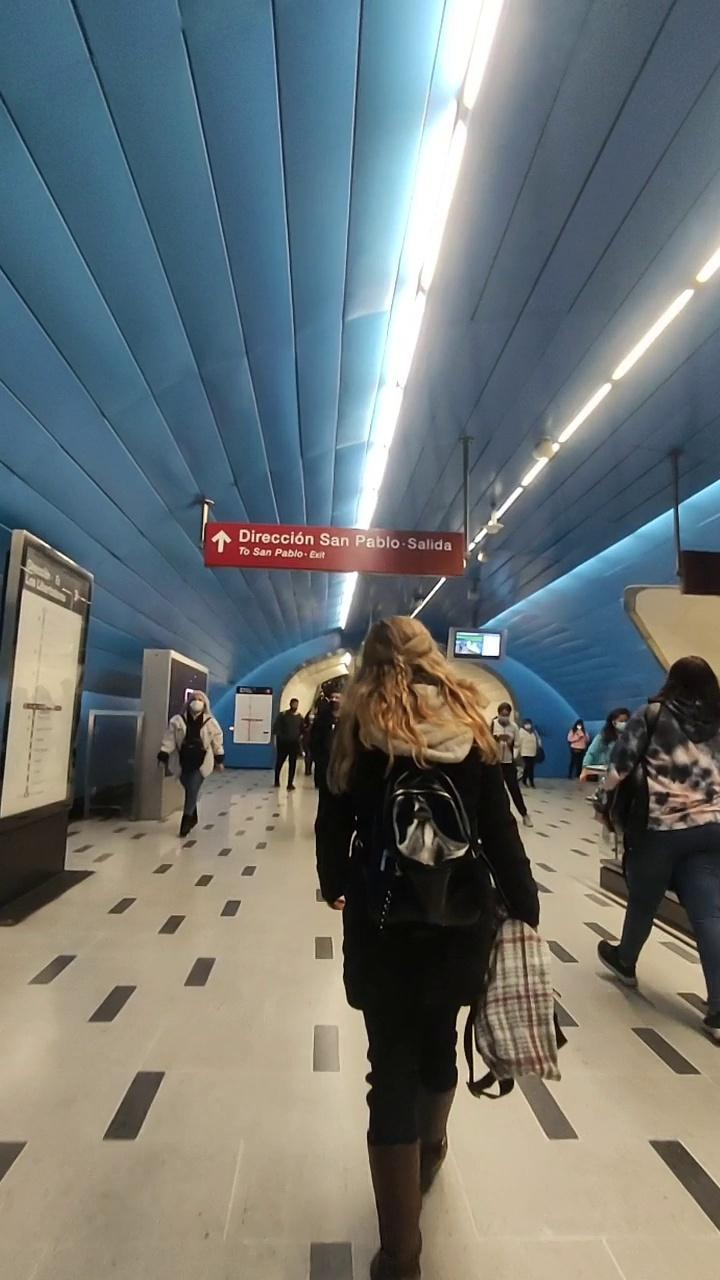up arrow: (204, 526, 241, 556)
